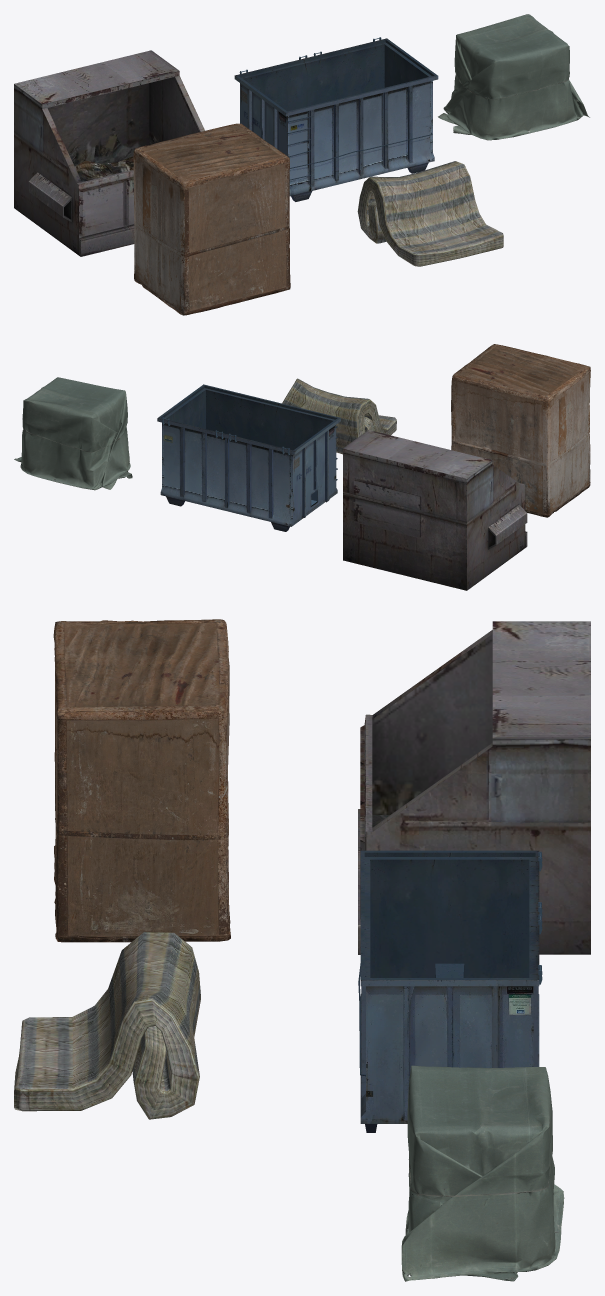
The model's file is garbage_pack_2.glb.
The picture shows the model from 3 angles, top to bottom: view 1: azimuth 30°, elevation 25°; view 2: azimuth 150°, elevation 25°; view 3: azimuth 270°, elevation 25°; orthographic projection. The views are drawn at different scales.
Visible parts, largest first — view 1: Object_3, Object_4, Object_6, Object_2, Object_5; view 2: Object_4, Object_6, Object_3, Object_2, Object_5; view 3: Object_3, Object_4, Object_6, Object_2, Object_5.
Boxes of the visible parts, left/top/right/bottom form: Object_3: left=133, top=123, right=290, bottom=315; Object_4: left=14, top=50, right=204, bottom=256; Object_6: left=234, top=37, right=438, bottom=201; Object_2: left=438, top=14, right=589, bottom=140; Object_5: left=357, top=161, right=503, bottom=266; Object_4: left=343, top=430, right=527, bottom=590; Object_6: left=157, top=384, right=340, bottom=531; Object_3: left=451, top=344, right=590, bottom=517; Object_2: left=14, top=377, right=132, bottom=490; Object_5: left=282, top=378, right=396, bottom=454; Object_3: left=53, top=619, right=230, bottom=942; Object_4: left=358, top=621, right=590, bottom=954; Object_6: left=358, top=850, right=542, bottom=1132; Object_2: left=401, top=1065, right=564, bottom=1281; Object_5: left=14, top=931, right=200, bottom=1119.
Bounding box in the file's own units: 35.01 × 8.44 × 18.82.
5 materials, 5 textured.
